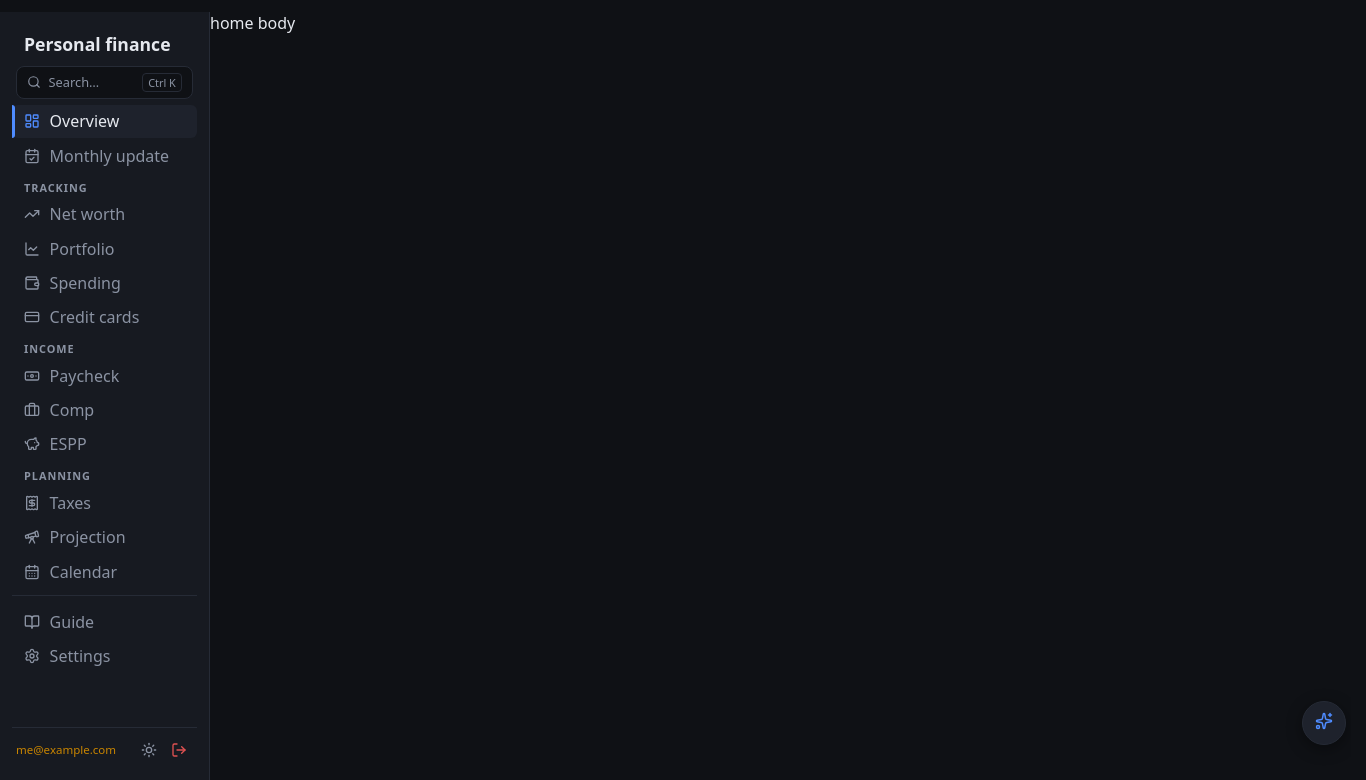
Test: Layout — skip link and navigation reset › focuses main and scrolls to top on navigation — never on arrival
Click the link "Spending" at (72, 283), box [24, 272, 121, 294]
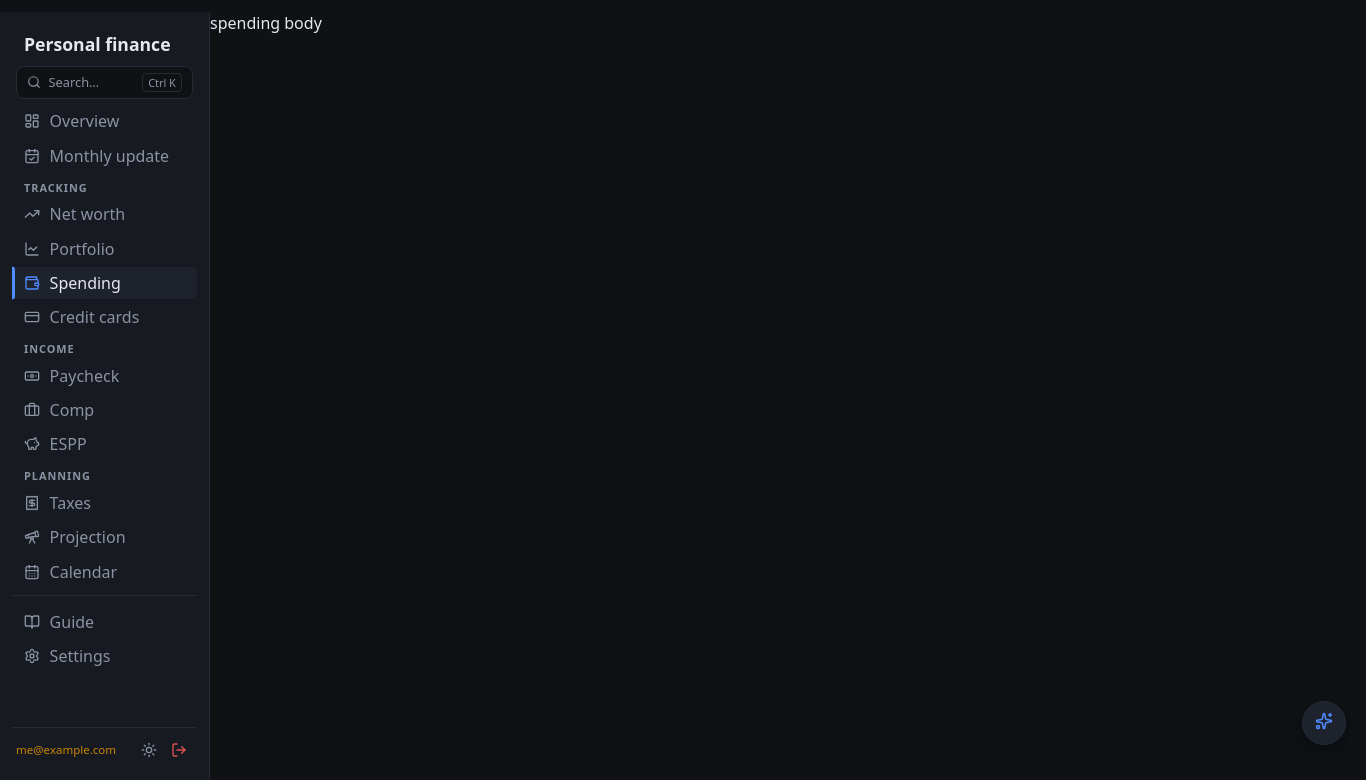
Now the text "spending body" is shown, box [210, 12, 322, 34]
